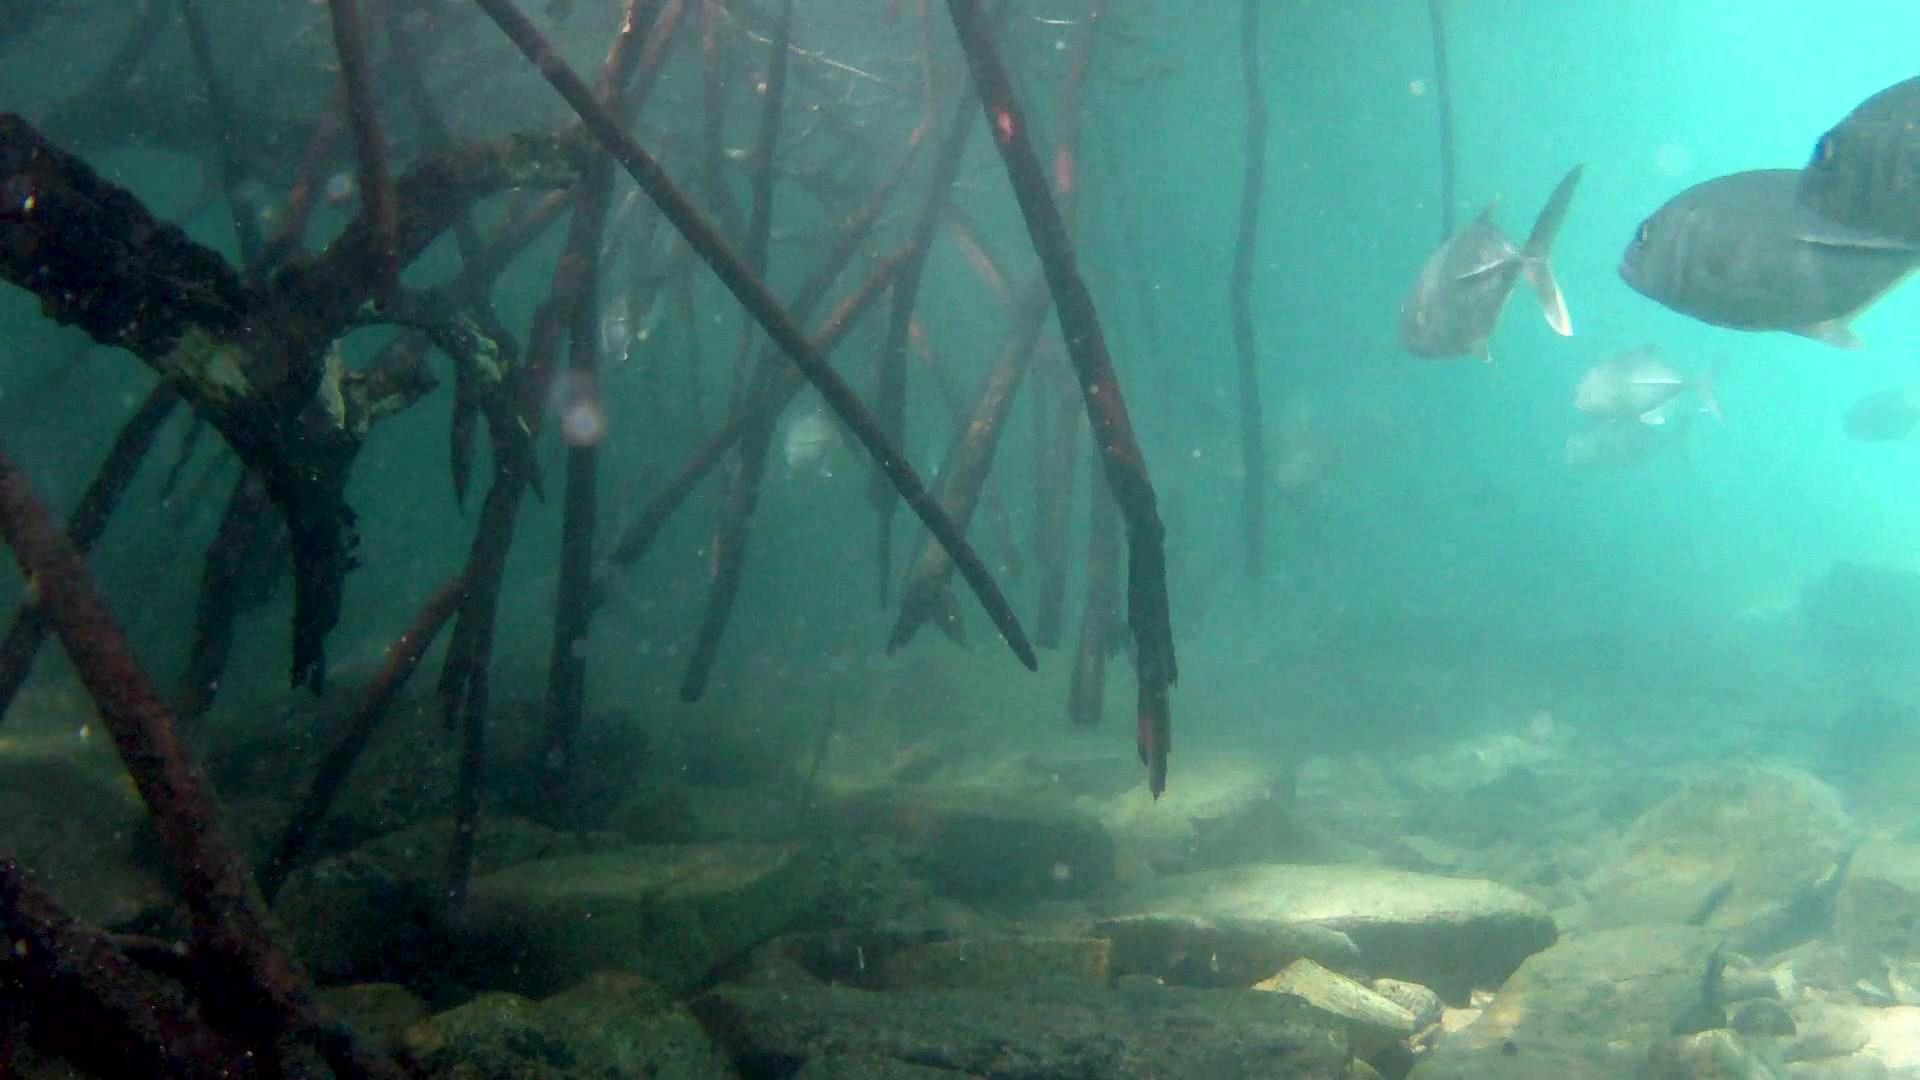caranx: (1618, 158, 1916, 351), (1381, 164, 1586, 363), (1785, 73, 1920, 269)
